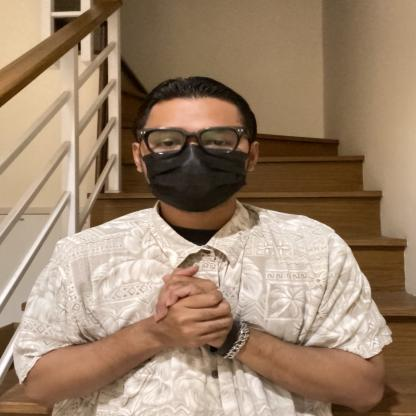Grieve: (67, 247, 308, 366)
